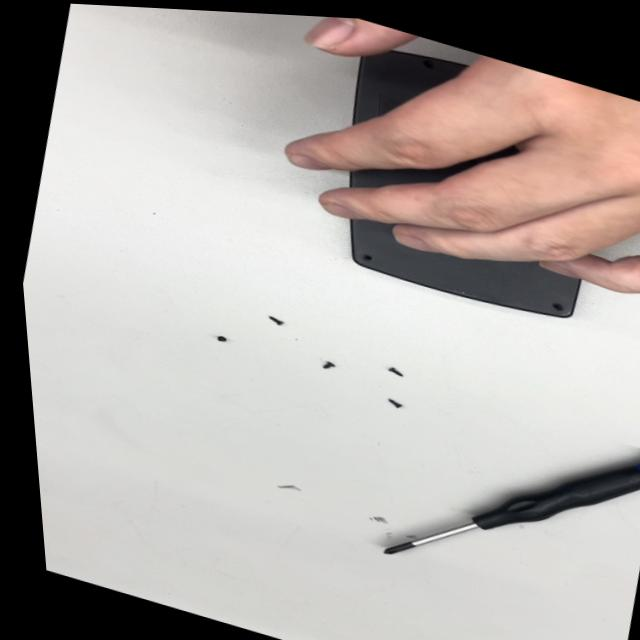screw: (312, 355, 344, 376), (381, 393, 410, 416), (381, 361, 408, 383), (261, 310, 289, 331), (207, 327, 233, 349)
screw_driver: (359, 382, 640, 633)
